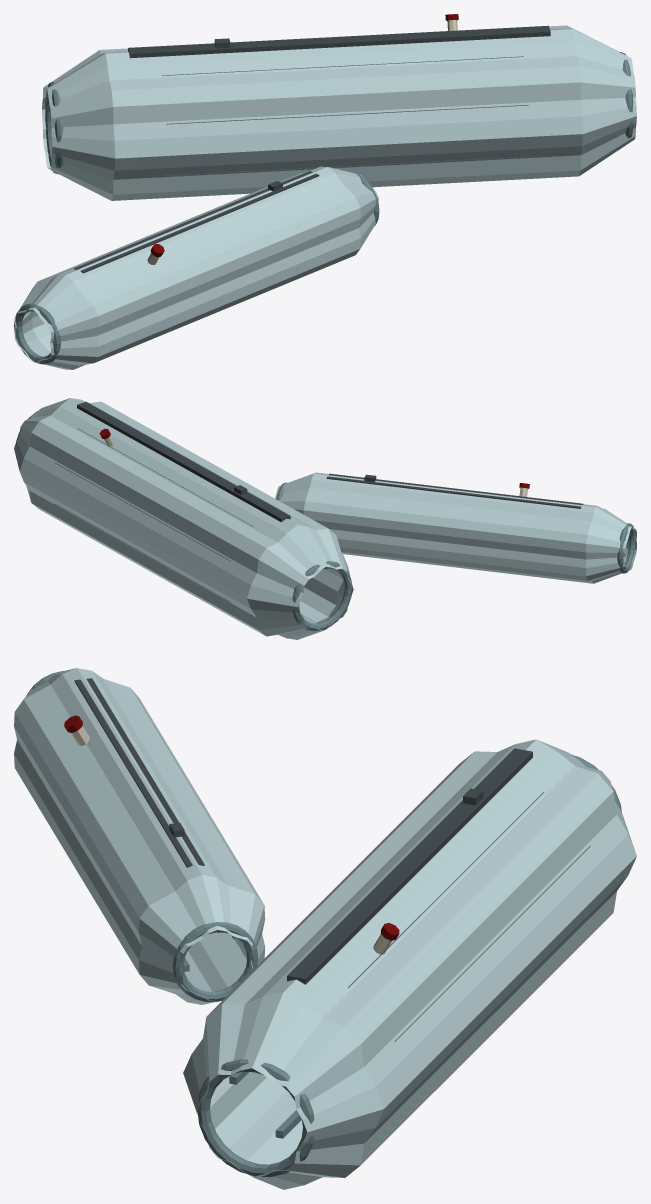
The model's file is InflatableAirSplints.obj.
3 renders of one model, top to bottom at view 1: azimuth 30°, elevation 25°; view 2: azimuth 150°, elevation 25°; view 3: azimuth 270°, elevation 25°, orthographic. The views are drawn at different scales.
Parts seen in each view (by area): view 1: InflatableAirSplints; view 2: InflatableAirSplints; view 3: InflatableAirSplints.
Boxes of the visible parts, x1,y1,x2,y2 form: InflatableAirSplints: (14,14,636,369); InflatableAirSplints: (14,398,636,639); InflatableAirSplints: (14,668,636,1189).
Bounding box in the file's own units: 0.9715 × 0.2053 × 0.5529.
